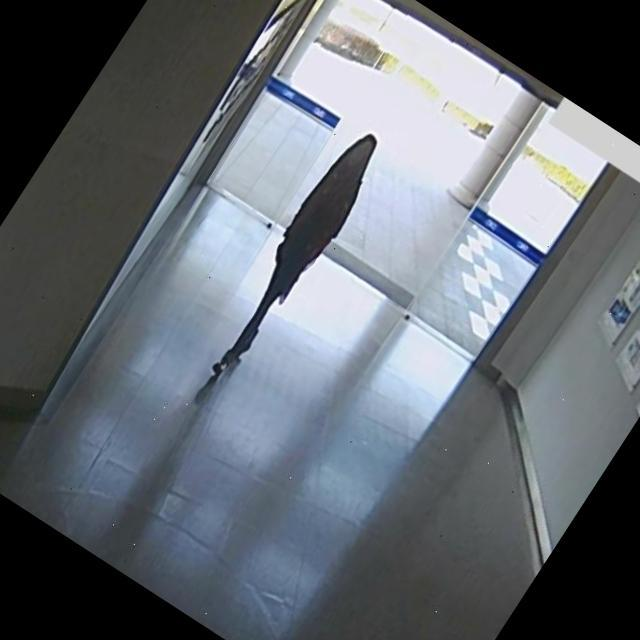person: (180, 113, 406, 412)
